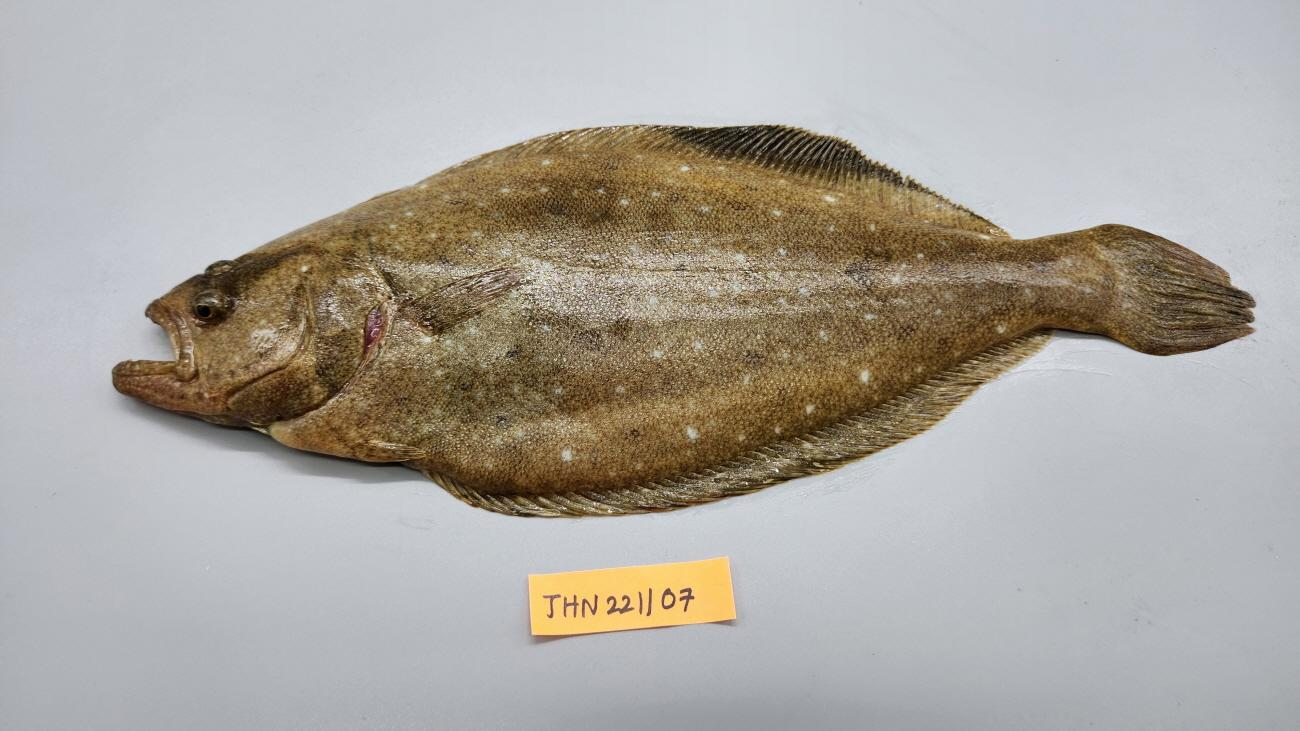POOUN: (112, 126, 1256, 518)
